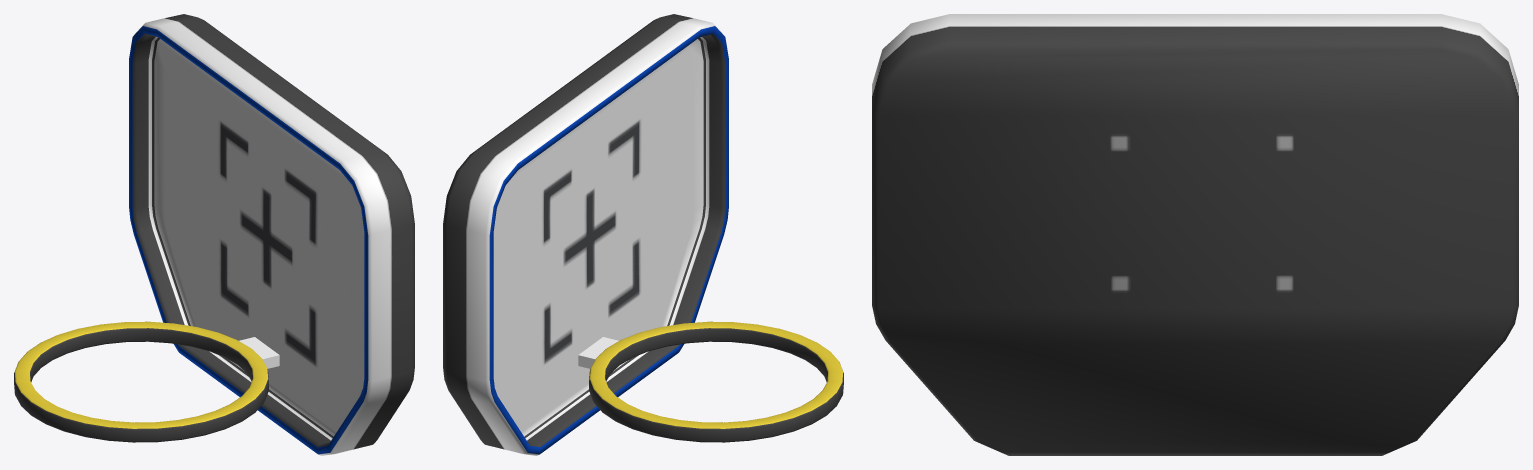
File: Basketball_Basket.fbx
3 renders of one model, left to right at view 1: azimuth 30°, elevation 25°; view 2: azimuth 150°, elevation 25°; view 3: azimuth 270°, elevation 25°, orthographic. The views are drawn at different scales.
Visible parts, largest first — view 1: SM_HUB_Panier; view 2: SM_HUB_Panier; view 3: SM_HUB_Panier.
Boxes of the visible parts, x1=… form: SM_HUB_Panier: x1=14, y1=14, x2=414, y2=455; SM_HUB_Panier: x1=443, y1=14, x2=843, y2=455; SM_HUB_Panier: x1=872, y1=14, x2=1518, y2=455.
Size of the model in its own units: 1.59 by 1.78 by 2.51.
